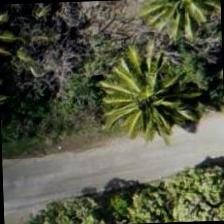Kelapa_Sawit: (100, 49, 193, 142)
